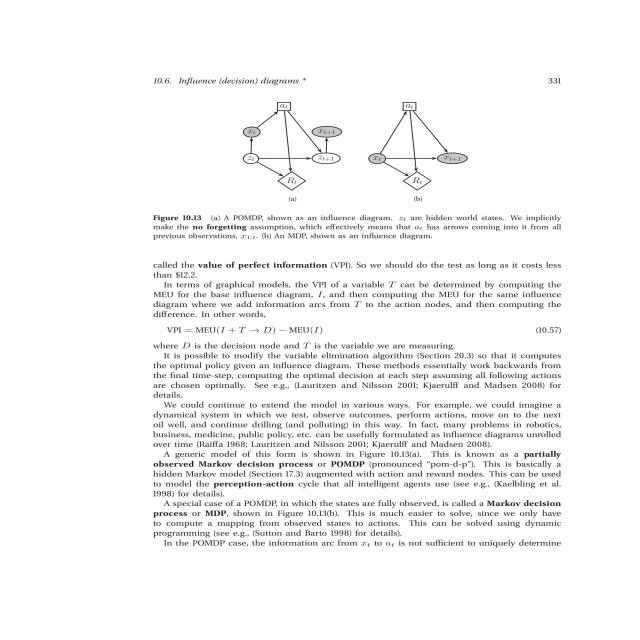diagram: (123, 88, 612, 248)
